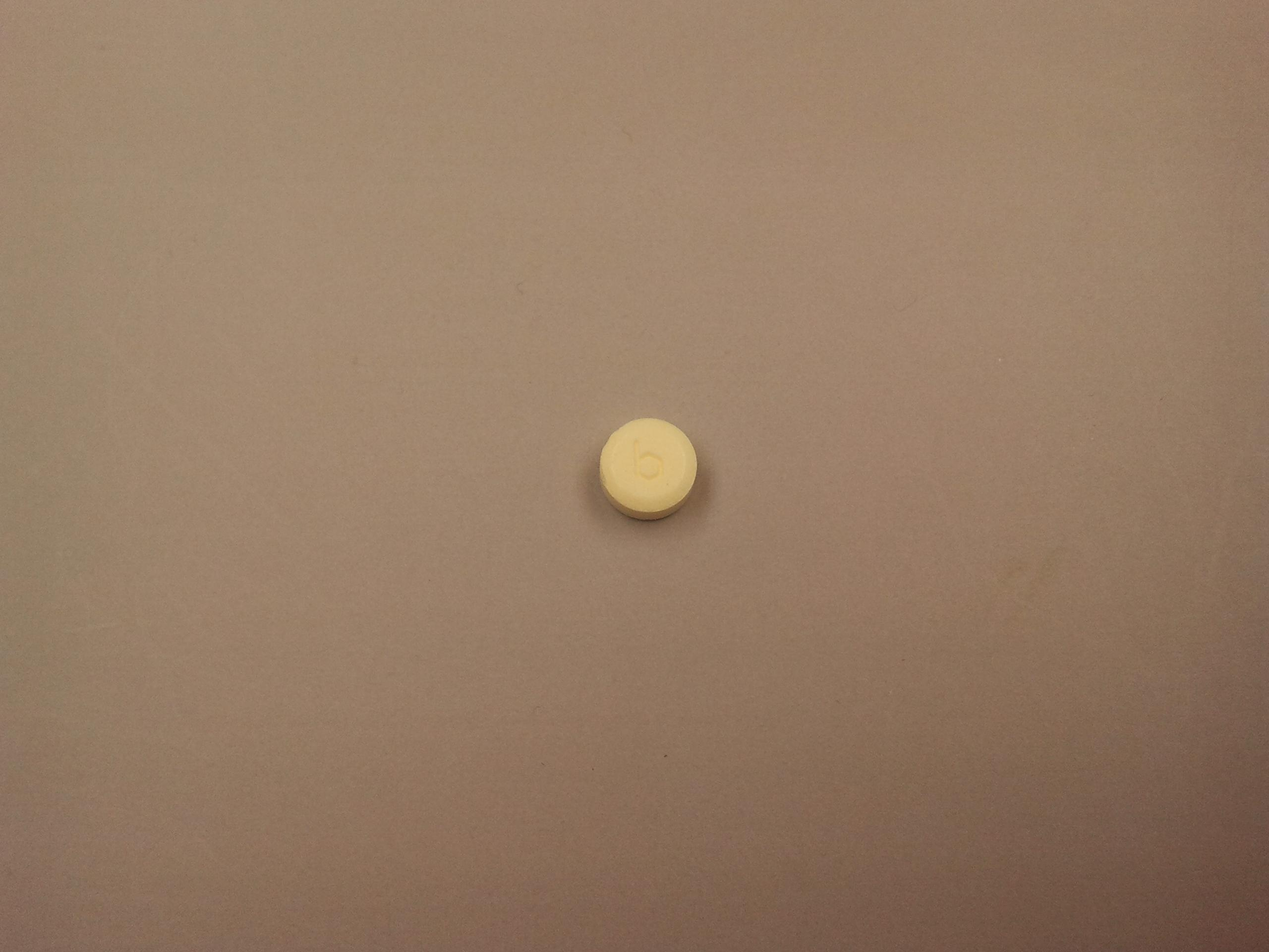Pill: (572, 441, 723, 533)
